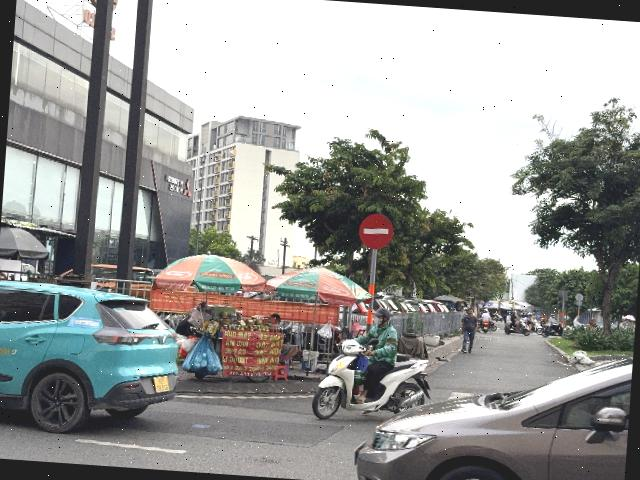cam-di-nguoc-chieu: (358, 213, 394, 250)
